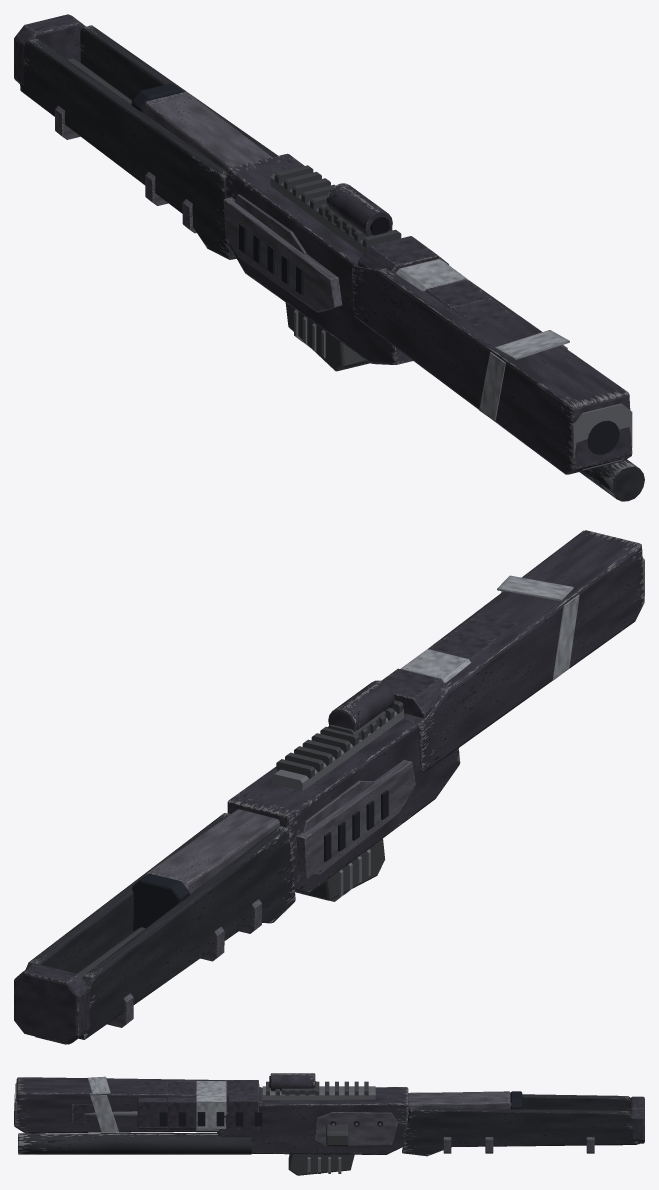
The model's file is salt-mg.glb.
3 renders of one model, top to bottom at view 1: azimuth 30°, elevation 25°; view 2: azimuth 150°, elevation 25°; view 3: azimuth 270°, elevation 25°, orthographic. The views are drawn at different scales.
Parts seen in each view (by area): view 1: Carriage assembly; view 2: Carriage assembly; view 3: Carriage assembly.
Boxes of the visible parts, left/top/right/bottom form: Carriage assembly: left=14, top=14, right=644, bottom=501; Carriage assembly: left=14, top=530, right=644, bottom=1044; Carriage assembly: left=14, top=1073, right=644, bottom=1175.
Size of the model in its own units: 0.5179 by 0.7895 by 4.67.
8 materials, 4 textured.
